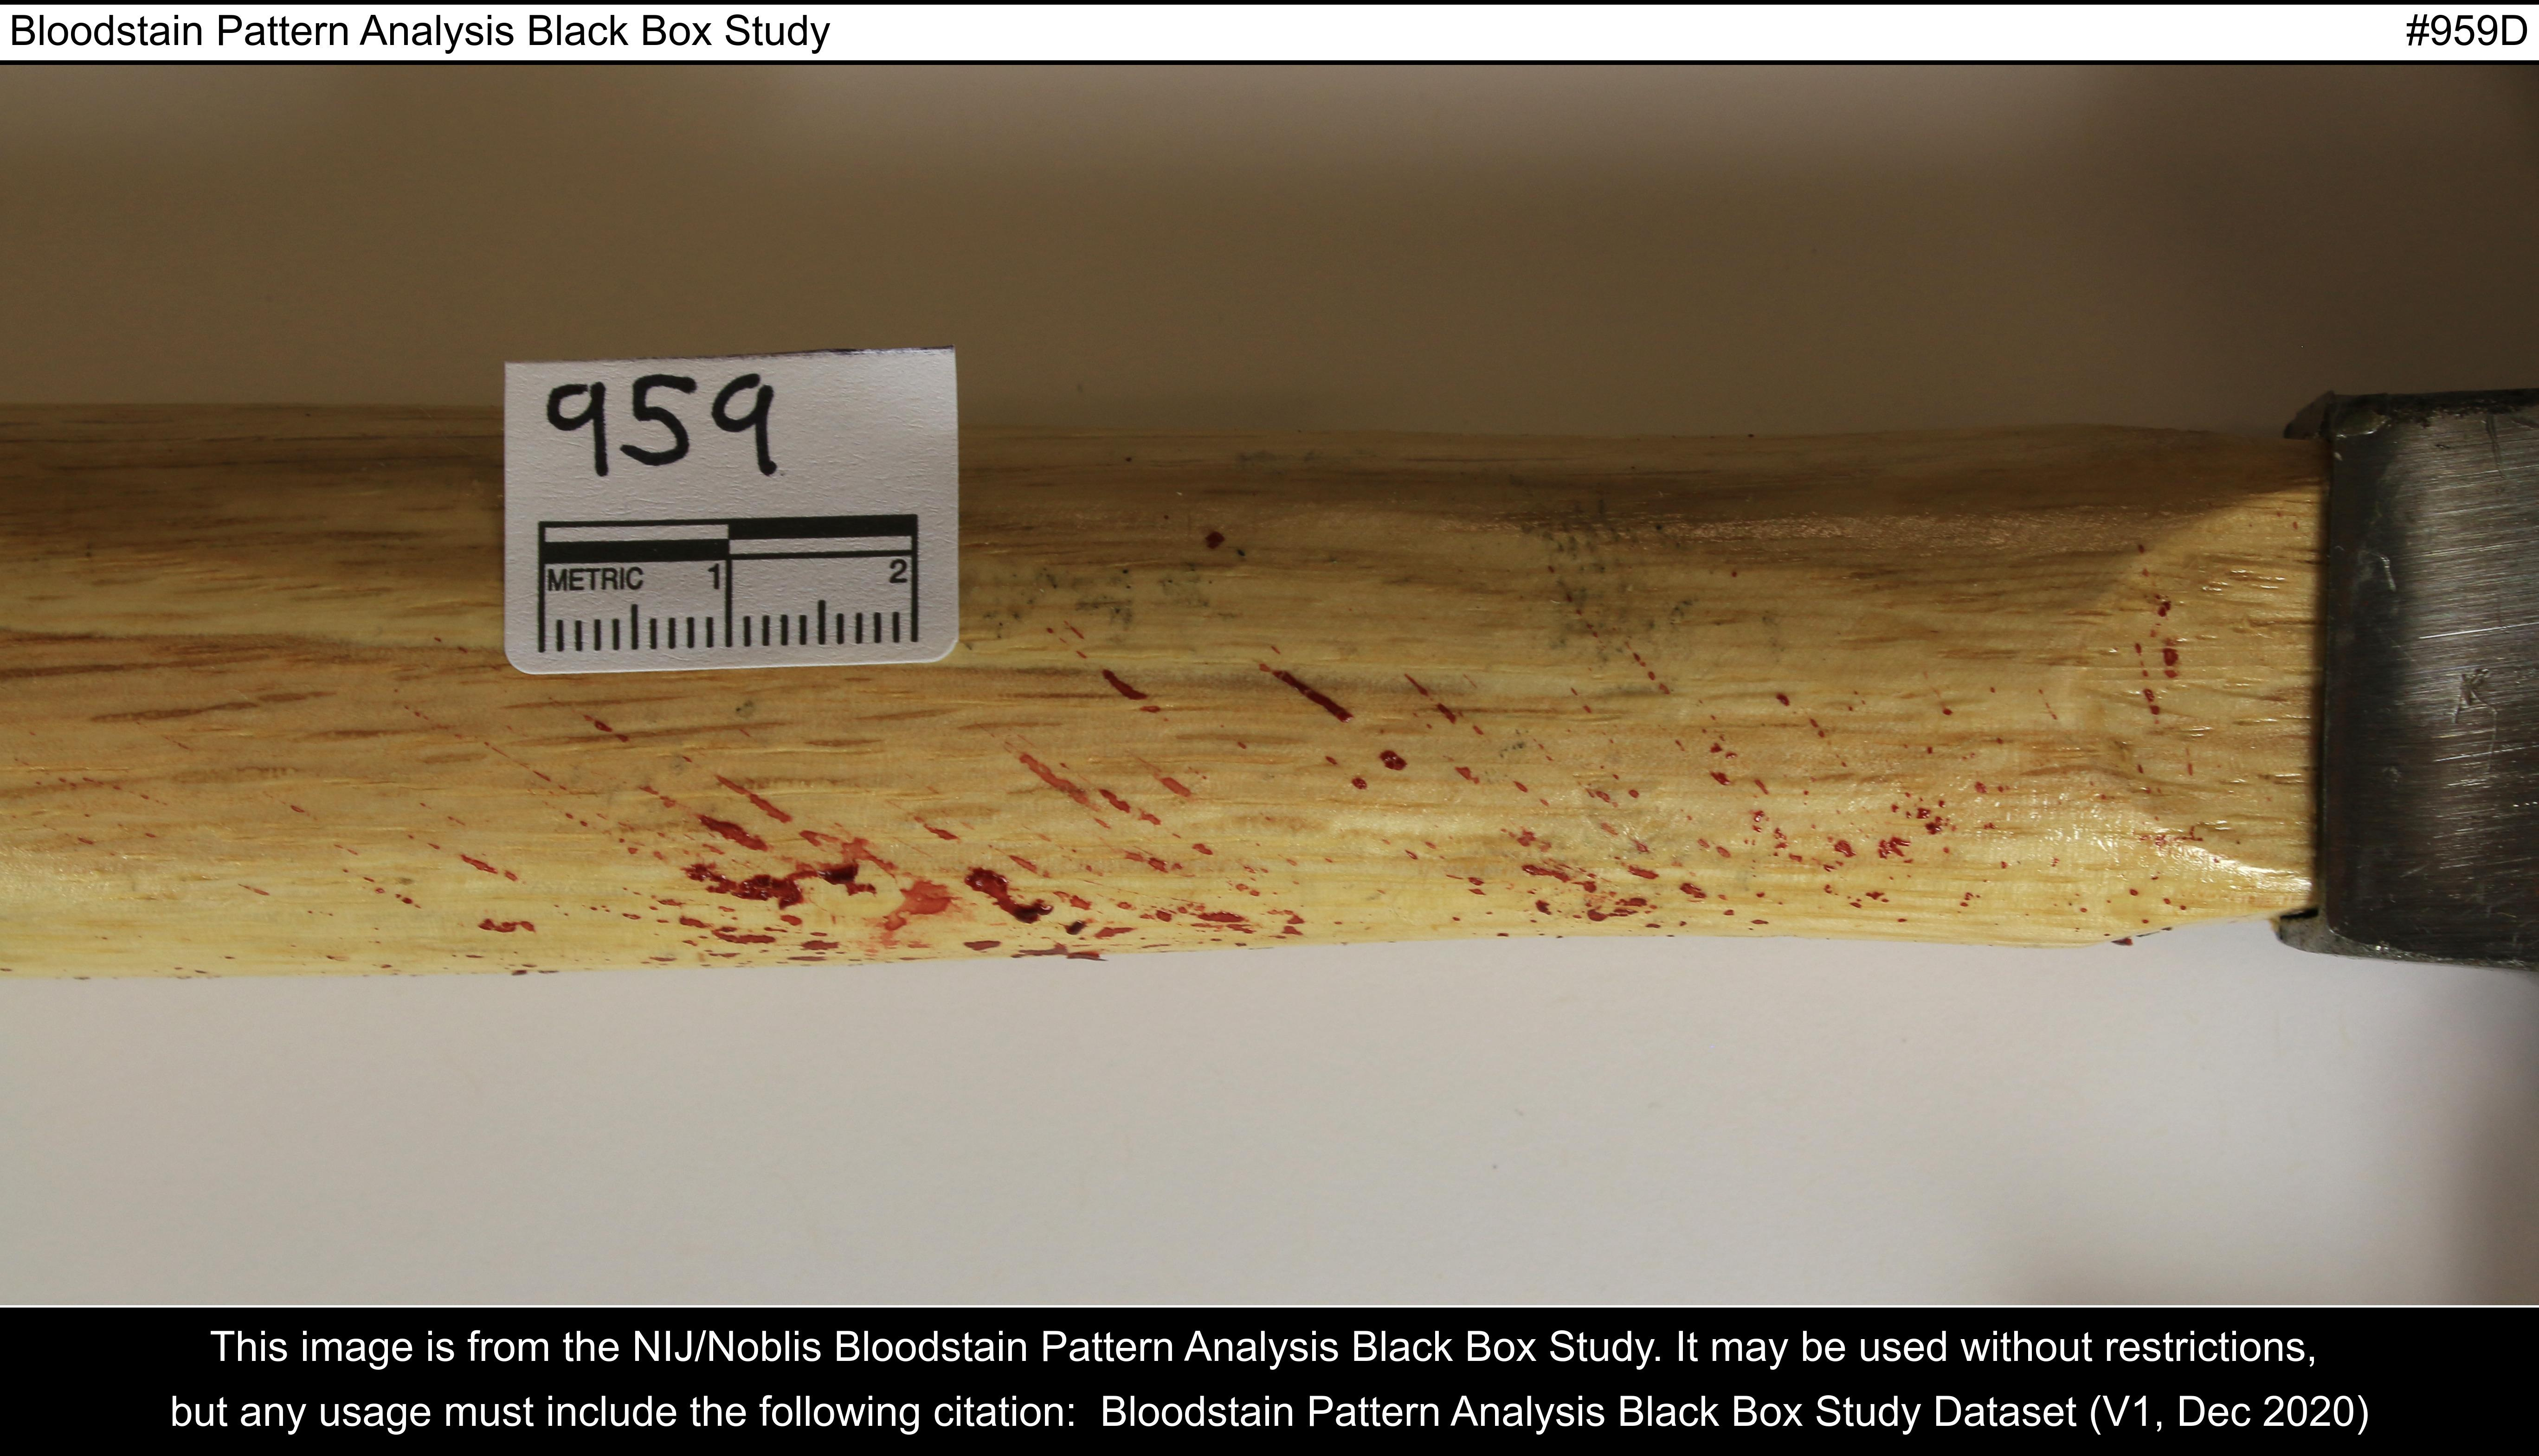Impact: (255, 450, 2248, 963)
